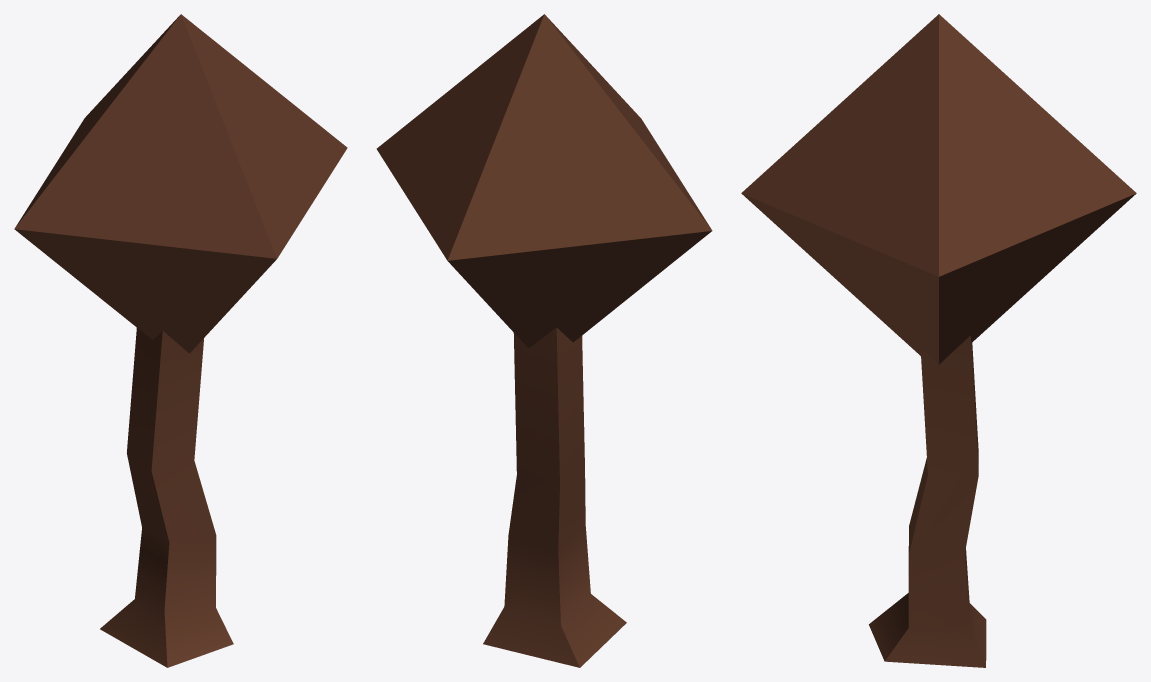
File: custom_tree_inner_collision_mesh.fbx
The picture shows the model from 3 angles, left to right: view 1: azimuth 30°, elevation 25°; view 2: azimuth 150°, elevation 25°; view 3: azimuth 270°, elevation 25°; orthographic projection. The views are drawn at different scales.
Parts seen in each view (by area): view 1: custom_tree; view 2: custom_tree; view 3: custom_tree.
Part boxes in pixels (left/top/right/bottom): custom_tree: left=14, top=14, right=347, bottom=667; custom_tree: left=376, top=14, right=712, bottom=667; custom_tree: left=741, top=14, right=1136, bottom=667.
Bounding box in the file's own units: 300 × 531 × 300.
